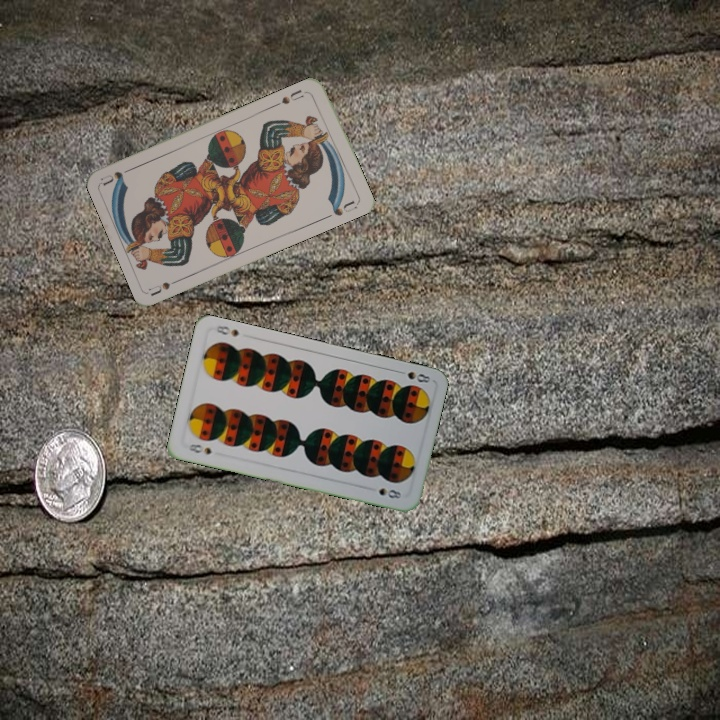S8: (392, 366, 433, 386), (181, 440, 214, 457)
SU: (146, 274, 186, 298), (277, 85, 312, 107)
